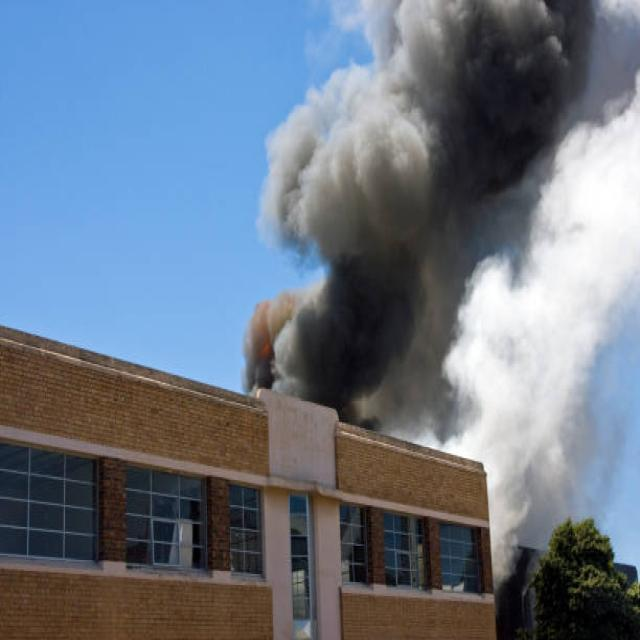Smoke: (327, 2, 633, 220), (264, 132, 474, 420)
